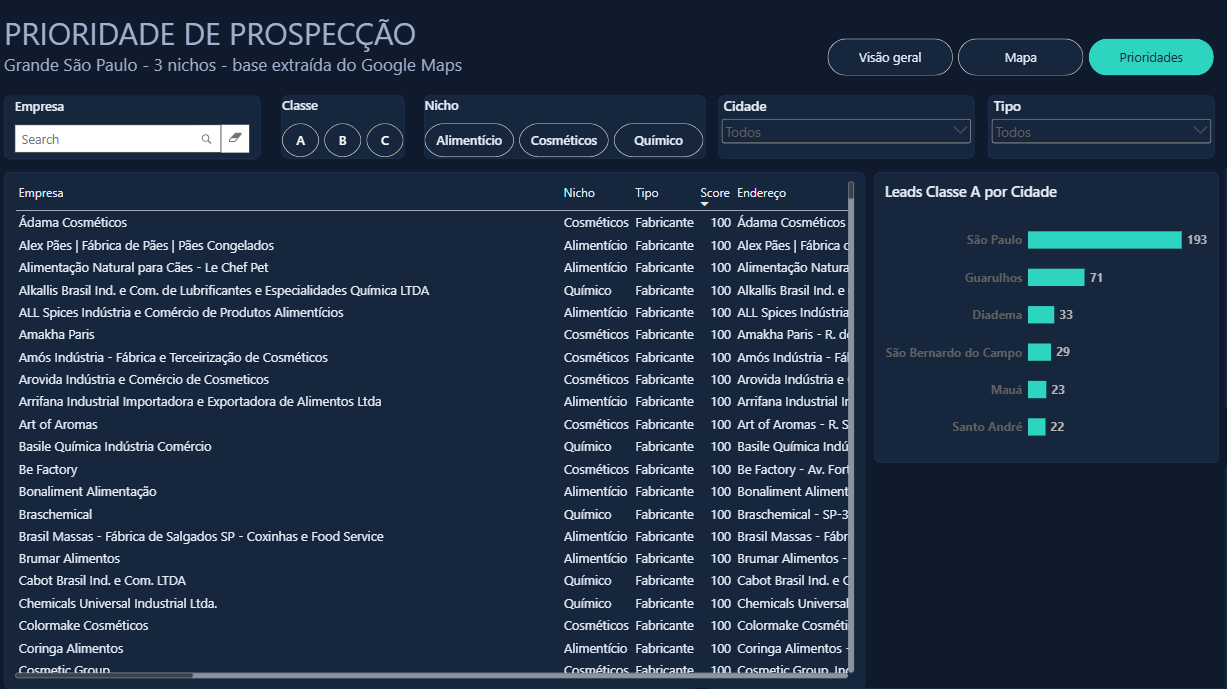

The page's visual inventory and layout, read from the dashboard file:
{"tool":"powerbi","page":{"name":"Prioridades","canvas":[1920,1080],"ordinal":2},"visuals":[{"type":"pageNavigator","box":[1296.5,63.3,604.9,58.6],"z":0},{"type":"textbox","box":[9.4,21.1,1252,131.3],"z":1000},{"type":"advancedSlicerVisual","fields":{"Values":["Base_prospeccao_completa.Nicho"]},"box":[665.8,152.4,440.8,98.5],"z":2000},{"type":"slicer","fields":{"Values":["Base_prospeccao_completa.Cidade"]},"box":[1125.4,152.4,400.9,98.5],"z":3000},{"type":"advancedSlicerVisual","fields":{"Values":["Base_prospeccao_completa.Classe"]},"box":[443.1,152.4,192.2,98.5],"z":4000},{"type":"slicer","fields":{"Values":["Base_prospeccao_completa.Tipo"]},"box":[1547.4,152.4,354,98.5],"z":5000},{"type":"tableEx","fields":{"Values":["Base_prospeccao_completa.Empresa","Base_prospeccao_completa.Nicho","Base_prospeccao_completa.Tipo","Sum(Base_prospeccao_completa.Score)","Base_prospeccao_completa.Endereço","Base_prospeccao_completa.Telefone","Base_prospeccao_completa.E-mail","Base_prospeccao_completa.Instagram","Base_prospeccao_completa.Facebook","Base_prospeccao_completa.LinkedIn","Base_prospeccao_completa.TikTok","Base_prospeccao_completa.X"]},"box":[9.4,272,1345.7,808.8],"z":6000},{"type":"clusteredBarChart","title":"Leads Classe A por Cidade","fields":{"Category":["Base_prospeccao_completa.Cidade"],"Y":["CountNonNull(Base_prospeccao_completa.Empresa)"]},"box":[1369.2,272,539.2,454.8],"z":7000},{"type":"textFilter25A4896A83E0487089E2B90C9AE57C8A","fields":{"field":["Base_prospeccao_completa.Empresa"]},"box":[9.4,152.4,400.9,98.5],"z":8000}]}

Visuals, with their boxes in screenshot pixels (x1, y1, x2, y2), scaled from the page's 1920x1080 canvas onto the 1227x689 screenshot:
pageNavigator: <region>829, 40, 1215, 78</region>
textbox: <region>6, 13, 806, 97</region>
advancedSlicerVisual - Base_prospeccao_completa.Nicho: <region>425, 97, 707, 160</region>
slicer - Base_prospeccao_completa.Cidade: <region>719, 97, 975, 160</region>
advancedSlicerVisual - Base_prospeccao_completa.Classe: <region>283, 97, 406, 160</region>
slicer - Base_prospeccao_completa.Tipo: <region>989, 97, 1215, 160</region>
tableEx - Base_prospeccao_completa.Empresa x Base_prospeccao_completa.Nicho: <region>6, 174, 866, 688</region>
"Leads Classe A por Cidade" clusteredBarChart: <region>875, 174, 1220, 464</region>
textFilter25A4896A83E0487089E2B90C9AE57C8A - Base_prospeccao_completa.Empresa: <region>6, 97, 262, 160</region>
